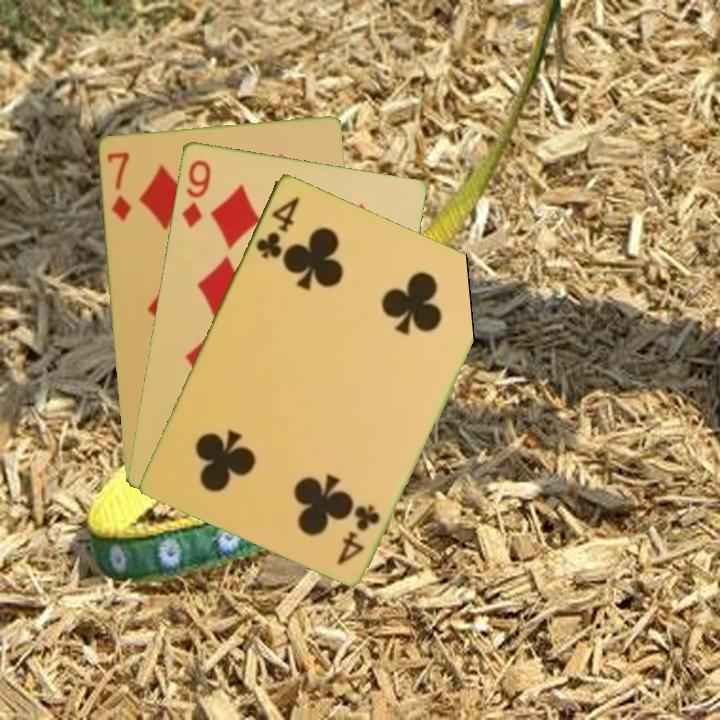4c: (252, 192, 302, 261), (333, 501, 383, 568)
7d: (103, 148, 134, 224)
9d: (178, 156, 214, 230)
